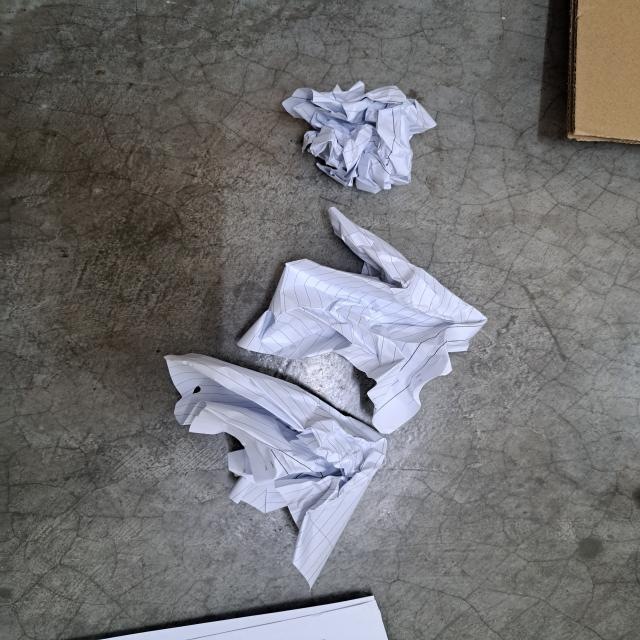cardboard: (556, 0, 640, 151)
paper: (236, 206, 487, 434), (161, 353, 389, 590), (278, 79, 437, 196)
